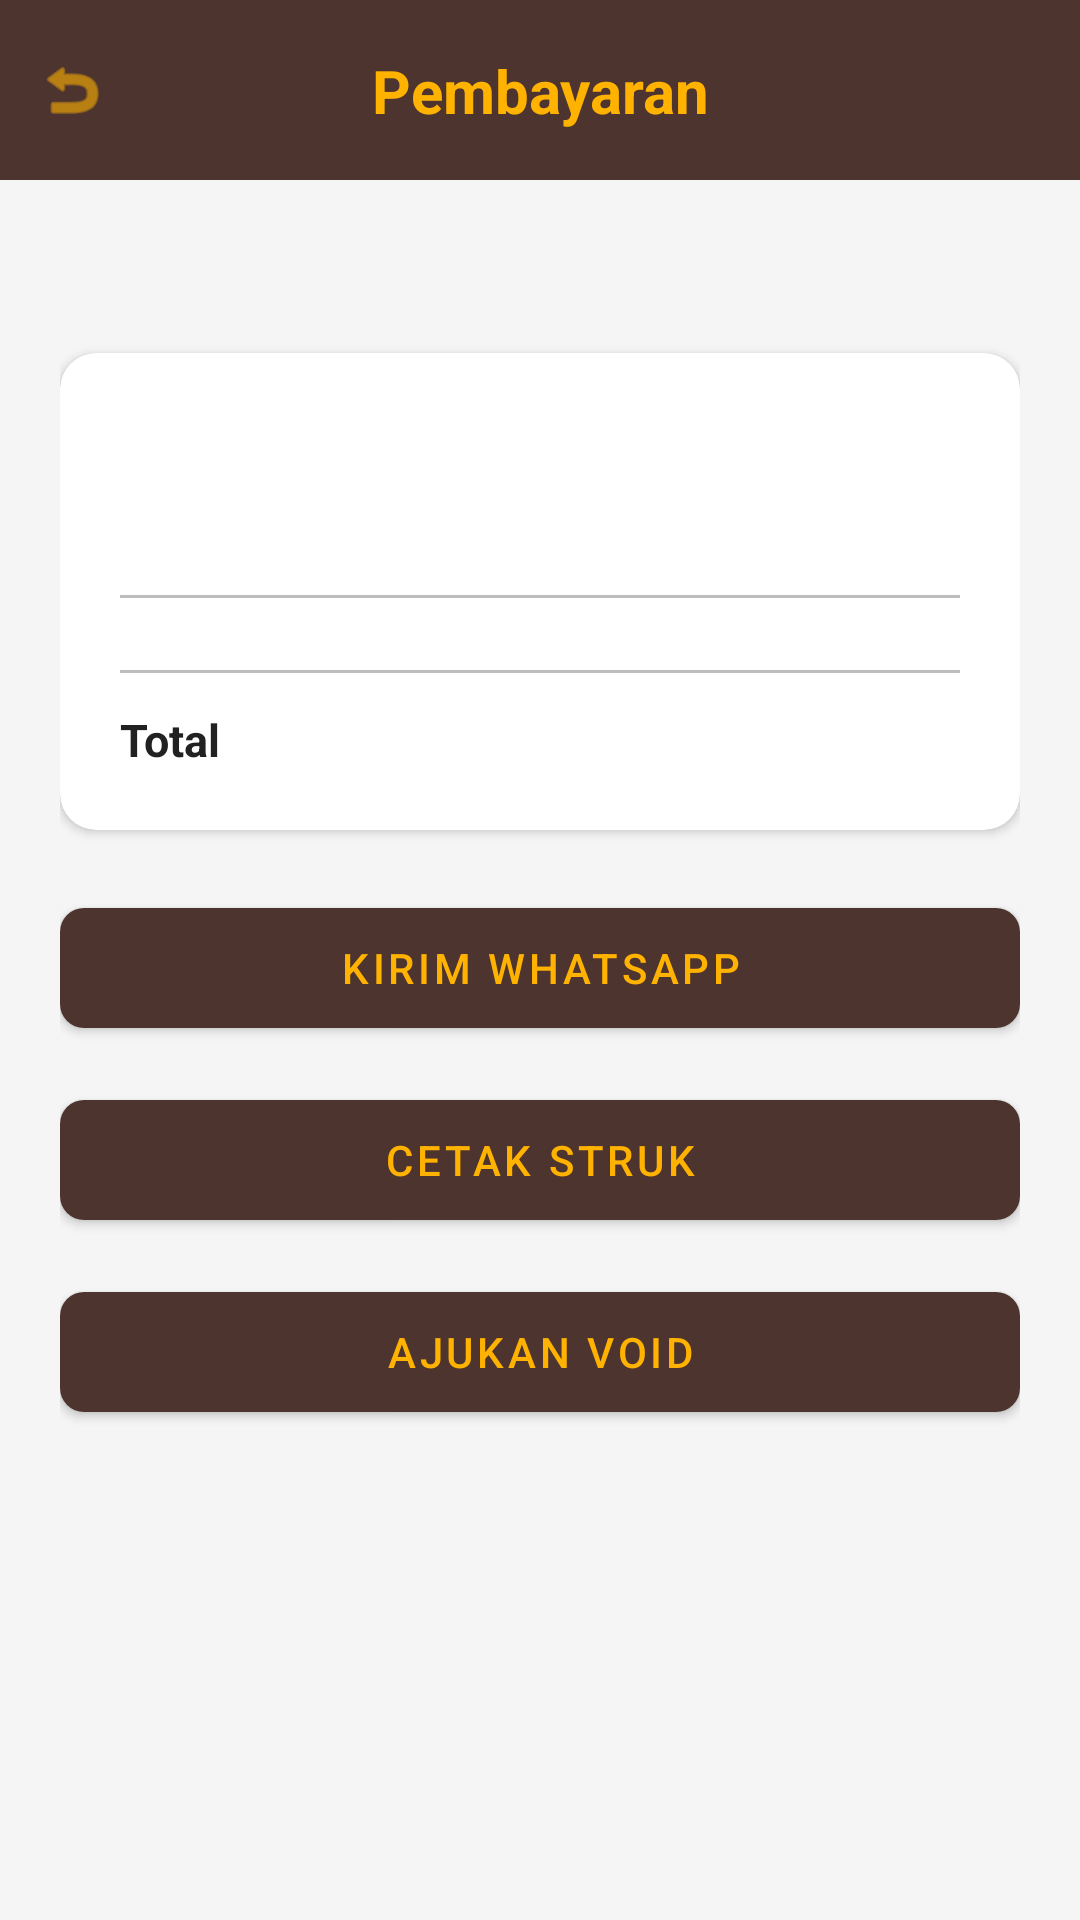

Screen size 1080px x 1920px. Icon name, then its box in pixels as (left=x1, top=y1, right=x2, bottom=y2):
revert: (left=47, top=67, right=99, bottom=114)
